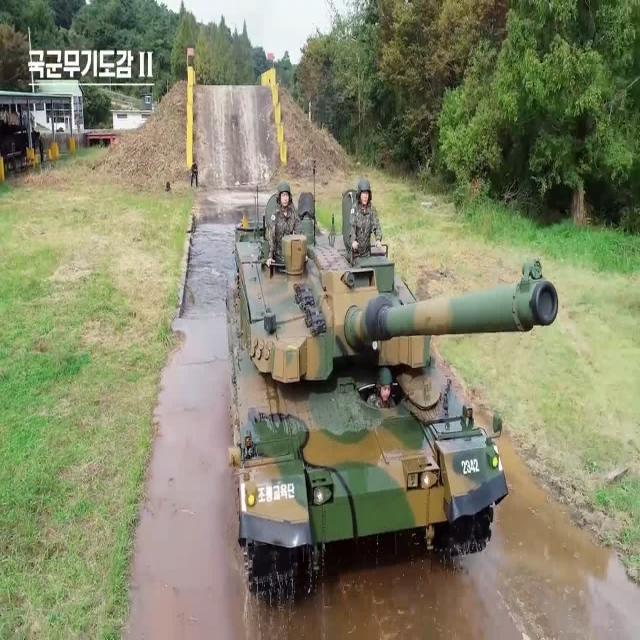korea tank: (225, 160, 559, 608)
